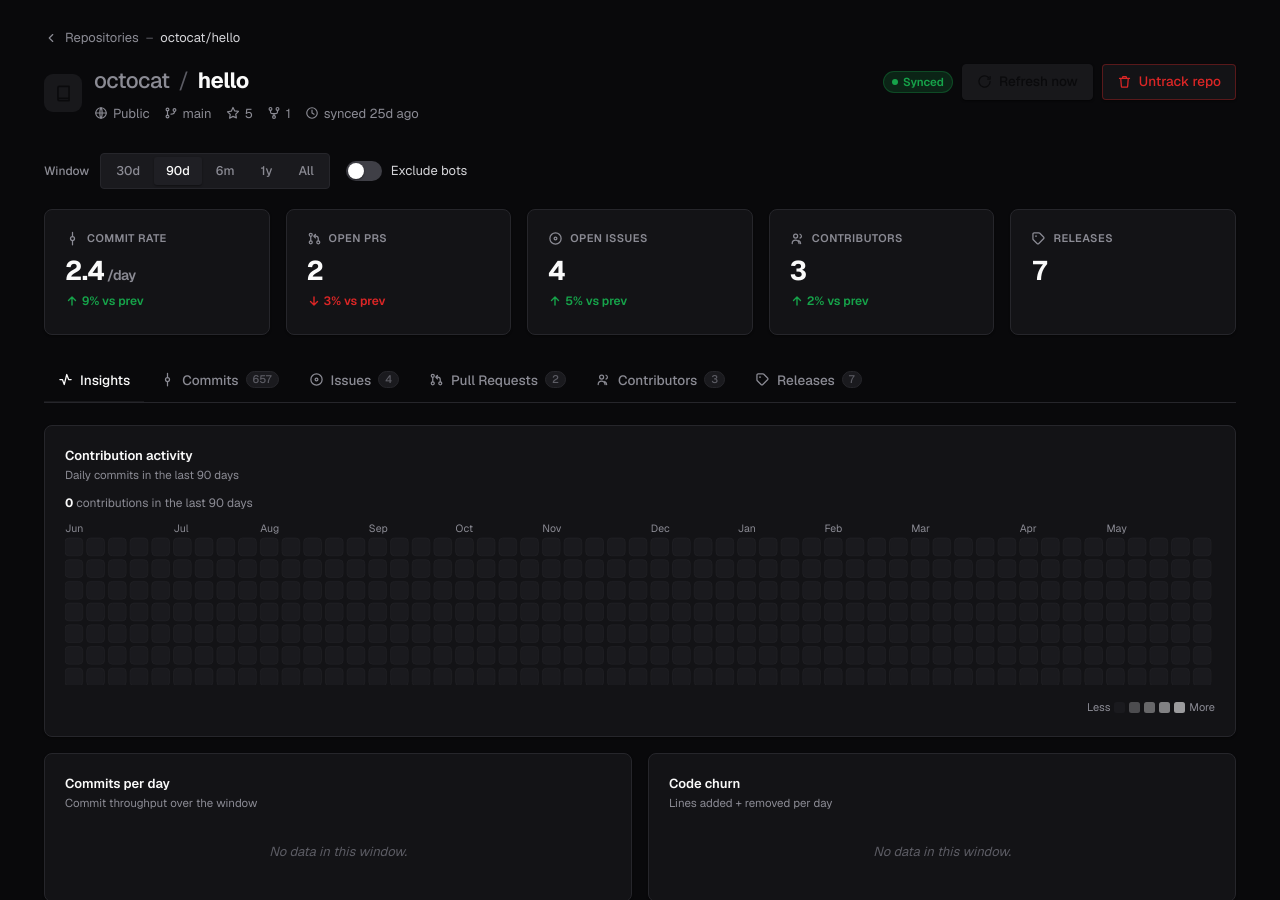
Scenario: RepoDetail page › shows stored-of-total header and links each commit to GitHub
What coordinates should you click on to do the following:
click the button "Commits 657"
I would click on:
 (219, 381)
Its box is 146,358 -> 293,403.
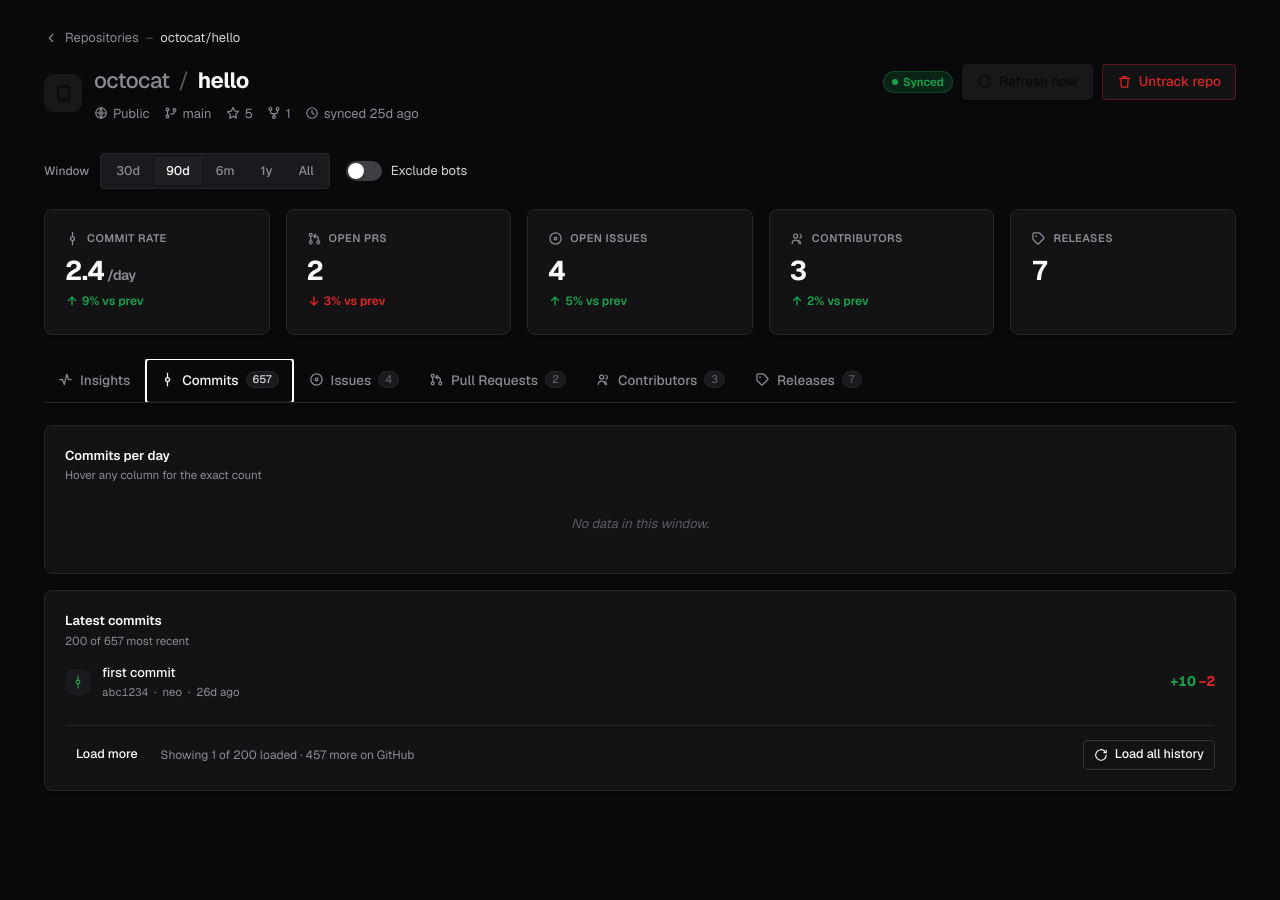
Now the text "200 of 657 most recent" is shown, box 65,632 -> 189,649
